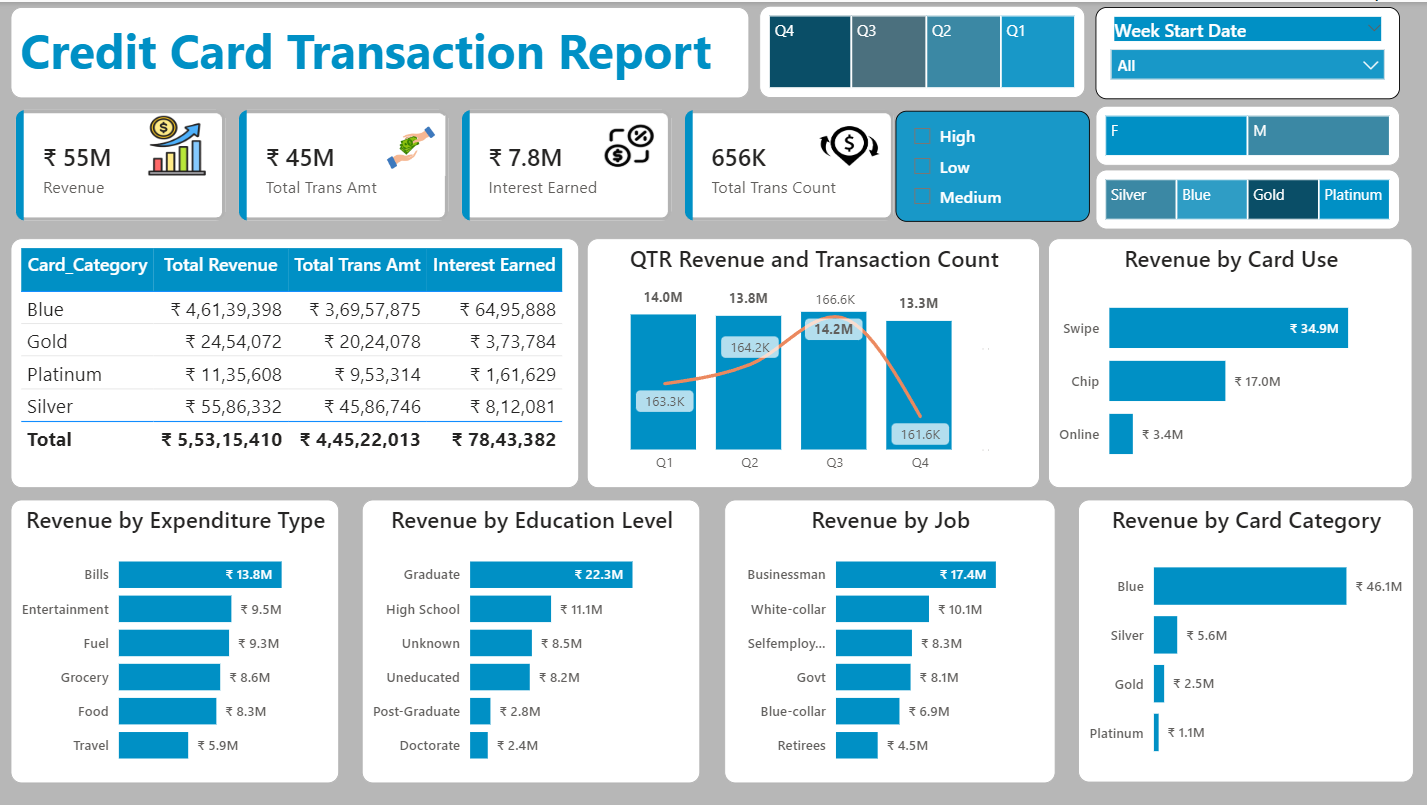

This screenshot's page, from the dashboard's own definition file:
{"tool":"powerbi","page":{"name":"CC Transaction","canvas":[1280,720],"ordinal":1},"visuals":[{"type":"textbox","box":[10.8,4.8,660.4,81.5],"z":0},{"type":"lineStackedColumnComboChart","title":"QTR Revenue and Transaction Count","fields":{"Category":["fn ccdetails.Qtr"],"Y":["Sum(fn ccdetails.Revenue)"],"Y2":["Sum(fn ccdetails.Total_Trans_Vol)"]},"box":[526.1,210.9,405.1,222.9],"z":1000},{"type":"barChart","title":"Revenue by Expenditure Type","fields":{"Y":["Sum(fn ccdetails.Revenue)"],"Category":["fn ccdetails.Exp_Type"]},"box":[11.2,444.4,293.7,253.5],"z":2000},{"type":"barChart","title":"Revenue by Education Level","fields":{"Y":["Sum(fn ccdetails.Revenue)"],"Category":["fn custdetails.Education_Level"]},"box":[325.3,444.4,302.6,253.5],"z":3000},{"type":"barChart","title":"Revenue by Job","fields":{"Y":["Sum(fn ccdetails.Revenue)"],"Category":["fn custdetails.Customer_Job"]},"box":[648.4,444.4,295.9,253.5],"z":4000},{"type":"barChart","title":"Revenue by Card Category","fields":{"Y":["Sum(fn ccdetails.Revenue)"],"Category":["fn ccdetails.Card_Category"]},"box":[964.8,444.7,299.6,252.9],"z":5000},{"type":"barChart","title":"Revenue by Card Use","fields":{"Y":["Sum(fn ccdetails.Revenue)"],"Category":["fn ccdetails.Use_Chip"]},"box":[938.4,210.9,326,222.9],"z":6000},{"type":"tableEx","fields":{"Values":["fn ccdetails.Card_Category","Sum(fn ccdetails.Revenue)","Sum(fn ccdetails.Total_Trans_Amt)","Sum(fn ccdetails.Interest_Earned)"]},"box":[10.8,210.9,508.2,222.9],"z":7000},{"type":"cardVisual","fields":{"Data":["Sum(fn ccdetails.Revenue)","Sum(fn ccdetails.Total_Trans_Amt)","Sum(fn ccdetails.Interest_Earned)","Sum(fn ccdetails.Total_Trans_Vol)"]},"box":[10.8,91.1,795.8,109.1],"z":8000},{"type":"image","box":[127,101.9,62.3,53.9],"z":9000},{"type":"image","box":[532.1,101.9,62.3,53.9],"z":10000},{"type":"image","box":[728.7,101.9,62.3,53.9],"z":11000},{"type":"image","box":[336.8,101.9,62.3,53.9],"z":12000},{"type":"slicer","fields":{"Values":["fn ccdetails.Week_Start_Date"]},"box":[980.4,4.8,272.1,82.7],"z":13000},{"type":"treemap","fields":{"Group":["fn ccdetails.Qtr"],"Values":["Median(fn ccdetails.Client_Num)"]},"box":[679.6,3.6,291.2,82.7],"z":14000},{"type":"treemap","fields":{"Values":["Median(fn ccdetails.Client_Num)"],"Group":["fn custdetails.Gender"]},"box":[980.4,92.3,272.1,53.9],"z":15000},{"type":"treemap","fields":{"Values":["Median(fn ccdetails.Client_Num)"],"Group":["fn ccdetails.Card_Category"]},"box":[980.4,149.8,272.1,53.9],"z":16000},{"type":"slicer","fields":{"Values":["fn custdetails.Income Group"]},"box":[801.8,97.1,173.8,99.5],"z":17000}]}

Visuals, with their boxes in screenshot pixels (x1, y1, x2, y2), scaled from the page's 1280x720 canvas onto the 1427x805 screenshot:
textbox: [12,5,748,96]
"QTR Revenue and Transaction Count" lineStackedColumnComboChart: [587,236,1038,485]
"Revenue by Expenditure Type" barChart: [12,497,340,780]
"Revenue by Education Level" barChart: [363,497,700,780]
"Revenue by Job" barChart: [723,497,1053,780]
"Revenue by Card Category" barChart: [1076,497,1410,780]
"Revenue by Card Use" barChart: [1046,236,1410,485]
tableEx - fn ccdetails.Card_Category x Sum(fn ccdetails.Revenue): [12,236,579,485]
cardVisual - Sum(fn ccdetails.Revenue) x Sum(fn ccdetails.Total_Trans_Amt): [12,102,899,224]
image: [142,114,211,174]
image: [593,114,663,174]
image: [812,114,882,174]
image: [375,114,445,174]
slicer - fn ccdetails.Week_Start_Date: [1093,5,1396,98]
treemap - fn ccdetails.Qtr x Median(fn ccdetails.Client_Num): [758,4,1082,96]
treemap - Median(fn ccdetails.Client_Num) x fn custdetails.Gender: [1093,103,1396,163]
treemap - Median(fn ccdetails.Client_Num) x fn ccdetails.Card_Category: [1093,167,1396,228]
slicer - fn custdetails.Income Group: [894,109,1088,220]
